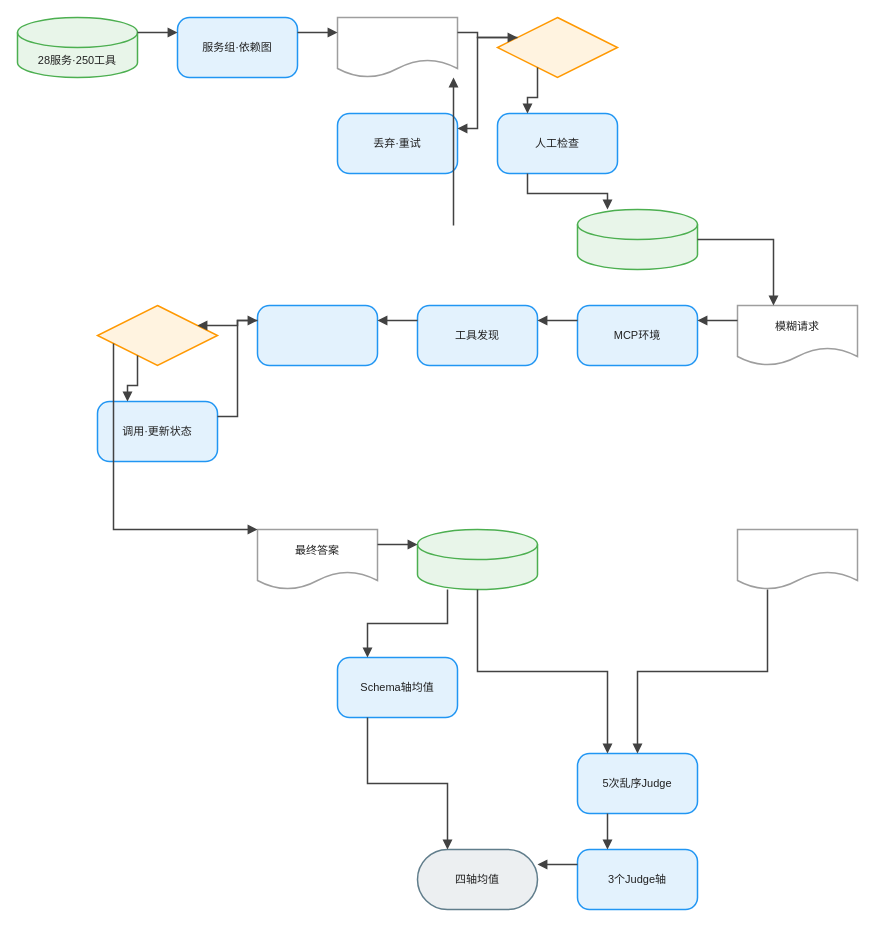
Image size: 876x928. Some labels were removed from this diagram. Here are the shapes that lost their labels. From the top down, the centre of each, then its label:
point 397,47: 详细·模糊任务
point 557,47: S9·U5门限
point 637,239: 3份JSON·104项
point 157,335: 继续且≤20轮?
point 317,335: 分轮规划
point 477,559: 执行证据
point 797,559: 隐藏参考
